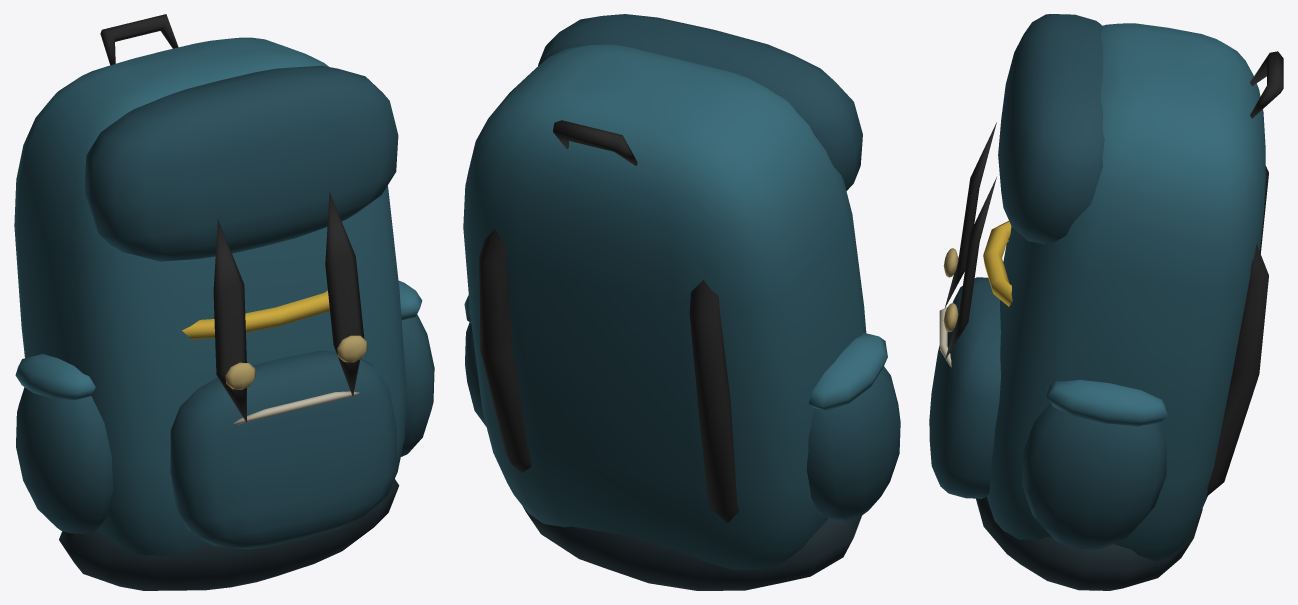
Rendered from Hut_Backpack.fbx.
3 views of the same model, side by side, from view 1: azimuth 30°, elevation 25°; view 2: azimuth 150°, elevation 25°; view 3: azimuth 270°, elevation 25° (orthographic). The views are drawn at different scales.
Visible parts, largest first — view 1: Hut_Backpack; view 2: Hut_Backpack; view 3: Hut_Backpack.
Boxes of the visible parts, x1,y1,x2,y2 form: Hut_Backpack: (14, 14, 434, 590); Hut_Backpack: (463, 14, 900, 590); Hut_Backpack: (929, 14, 1283, 590).
Bounding box in the file's own units: 22.6 × 27.31 × 17.48.
